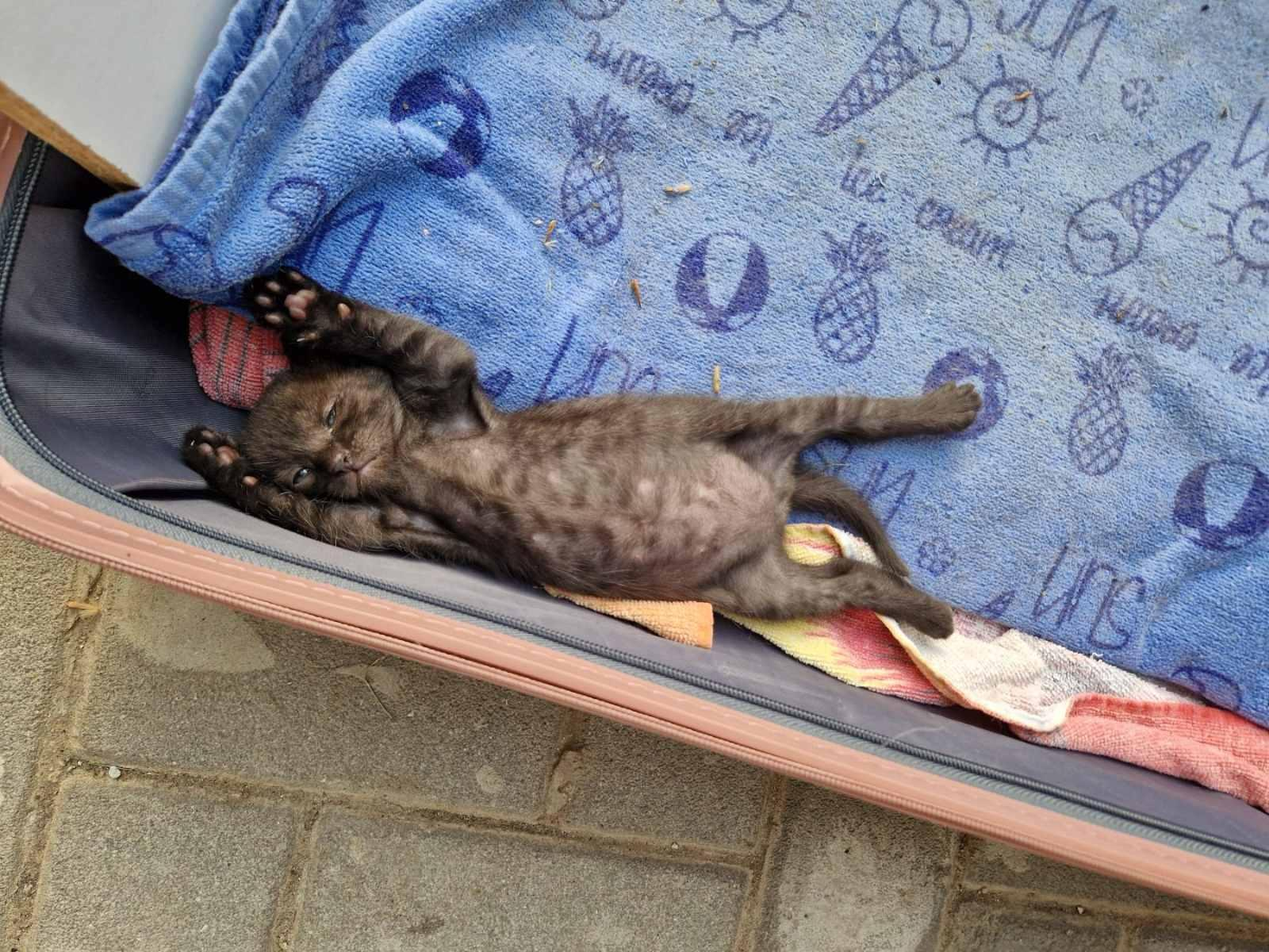macka: (182, 264, 978, 648)
